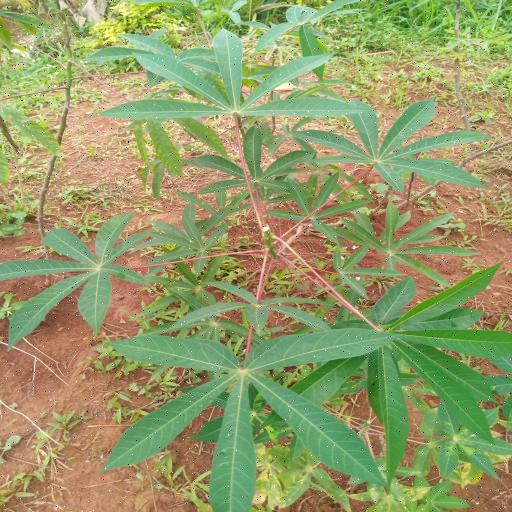Cassava_Healthy: (96, 322, 394, 506), (100, 24, 371, 123), (0, 212, 152, 338), (301, 97, 480, 196), (340, 201, 475, 288), (270, 174, 370, 244), (150, 214, 230, 270)
